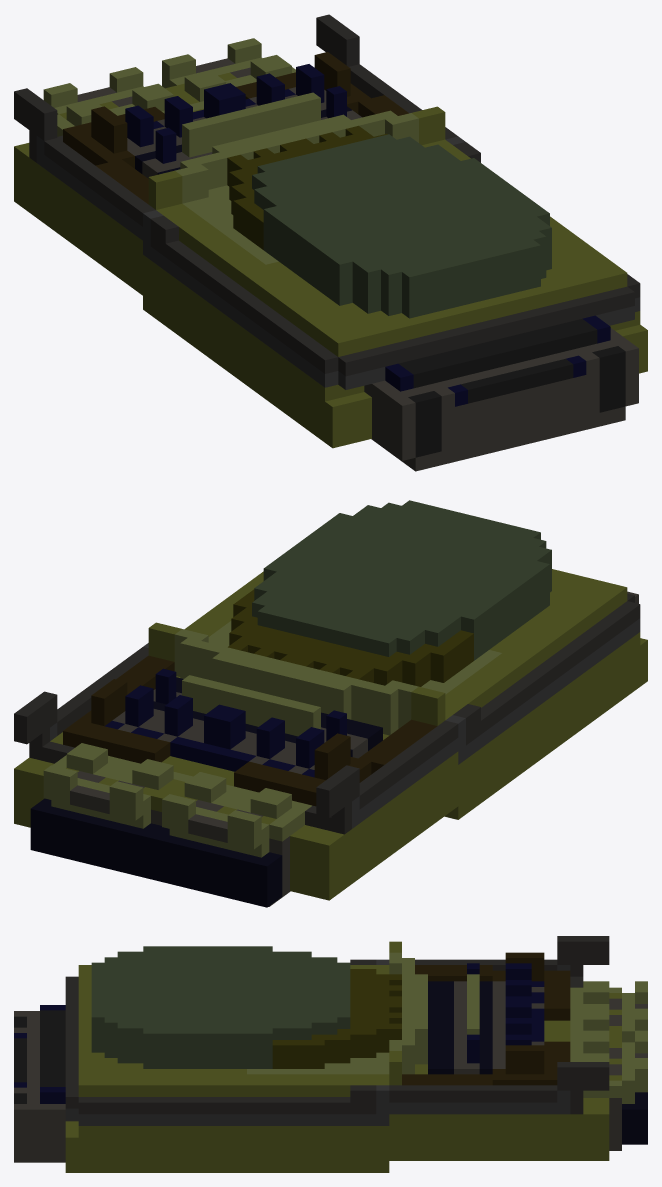
File: heavy-body.glb
3 renders of one model, top to bottom at view 1: azimuth 30°, elevation 25°; view 2: azimuth 150°, elevation 25°; view 3: azimuth 270°, elevation 25°, orthographic. The views are drawn at different scales.
Visible parts, largest first — view 1: Untitled; view 2: Untitled; view 3: Untitled.
Boxes of the visible parts, x1,y1,x2,y2 form: Untitled: (14,14,647,471); Untitled: (14,500,647,907); Untitled: (14,936,647,1172).
Size of the model in its own units: 2.4 by 1.1 by 4.9.
1 material, 1 textured.
